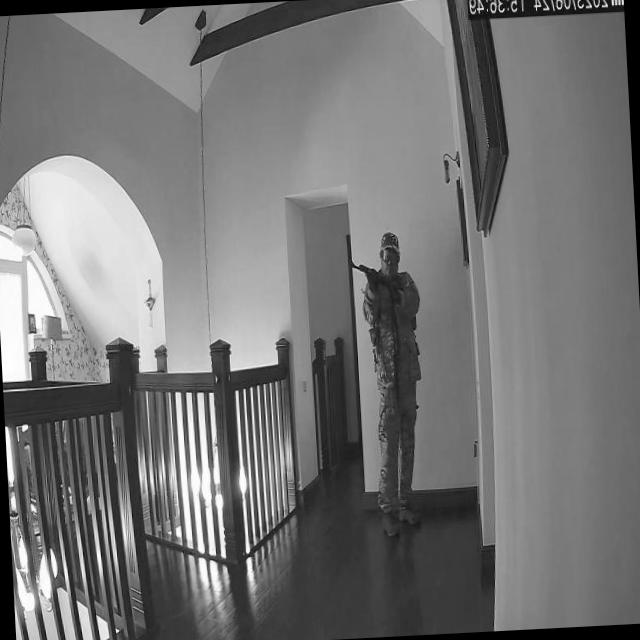gun: (345, 256, 402, 294)
person with a gun: (363, 229, 432, 535)
